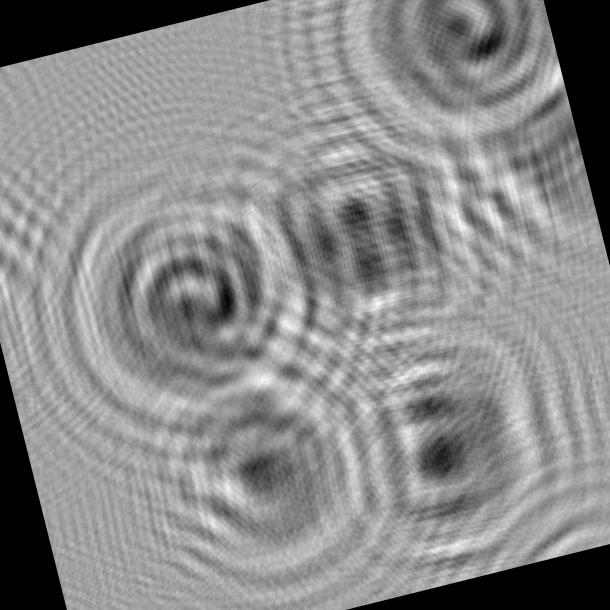F: (330, 298, 597, 598)
G: (24, 151, 355, 468), (293, 0, 578, 199)
H: (255, 92, 518, 392)
I: (417, 57, 608, 296)
J: (116, 344, 403, 610)
